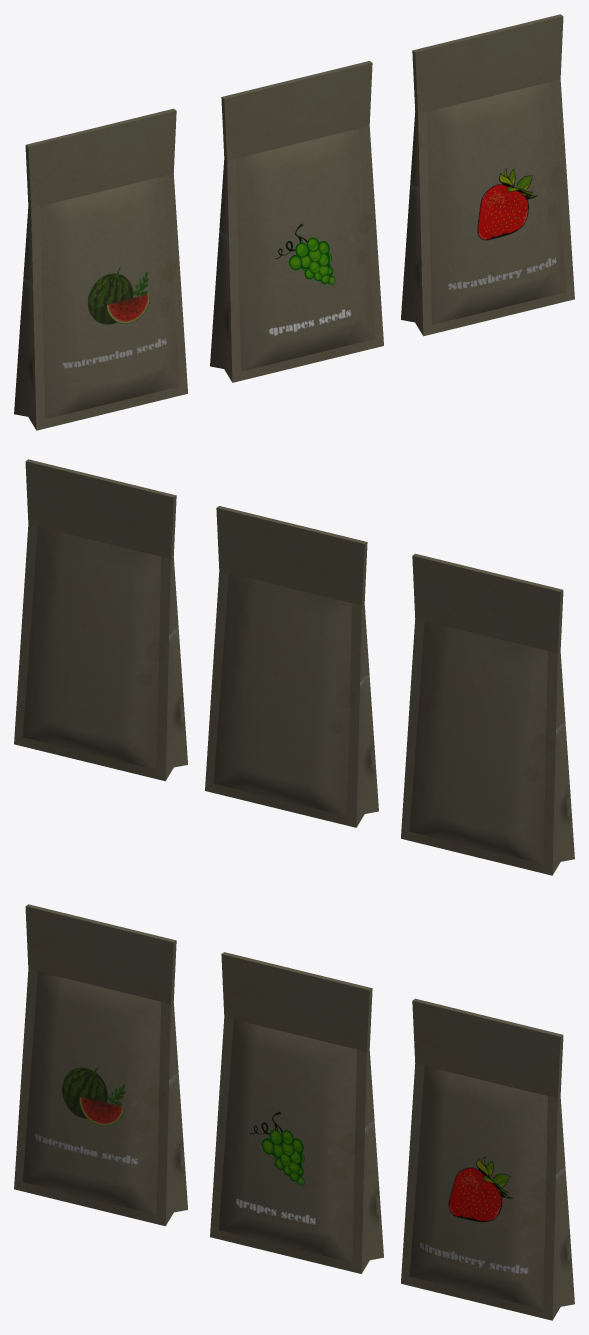
The model's file is herbs.fbx.
3 renders of one model, top to bottom at view 1: azimuth 30°, elevation 25°; view 2: azimuth 150°, elevation 25°; view 3: azimuth 330°, elevation 25°, orthographic.
Parts seen in each view (by area): view 1: Herbs2, Herbs1, Herbs; view 2: Herbs2, Herbs1, Herbs; view 3: Herbs1, Herbs, Herbs2.
Boxes of the visible parts, bbox=[...] form: Herbs2: bbox=[14, 108, 187, 430]; Herbs1: bbox=[210, 61, 383, 382]; Herbs: bbox=[401, 14, 574, 336]; Herbs2: bbox=[401, 553, 574, 875]; Herbs1: bbox=[205, 506, 378, 827]; Herbs: bbox=[14, 459, 187, 781]; Herbs1: bbox=[210, 952, 383, 1273]; Herbs: bbox=[401, 998, 574, 1320]; Herbs2: bbox=[14, 904, 187, 1226].
Bounding box in the file's own units: 68.61 × 33.63 × 8.72.
Materials: 3 (3 with a texture image).
